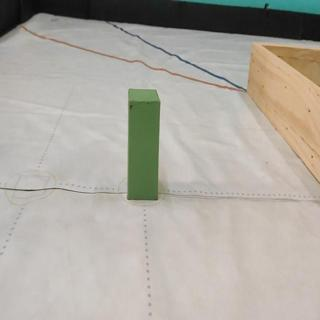greenbox: (126, 85, 160, 200)
